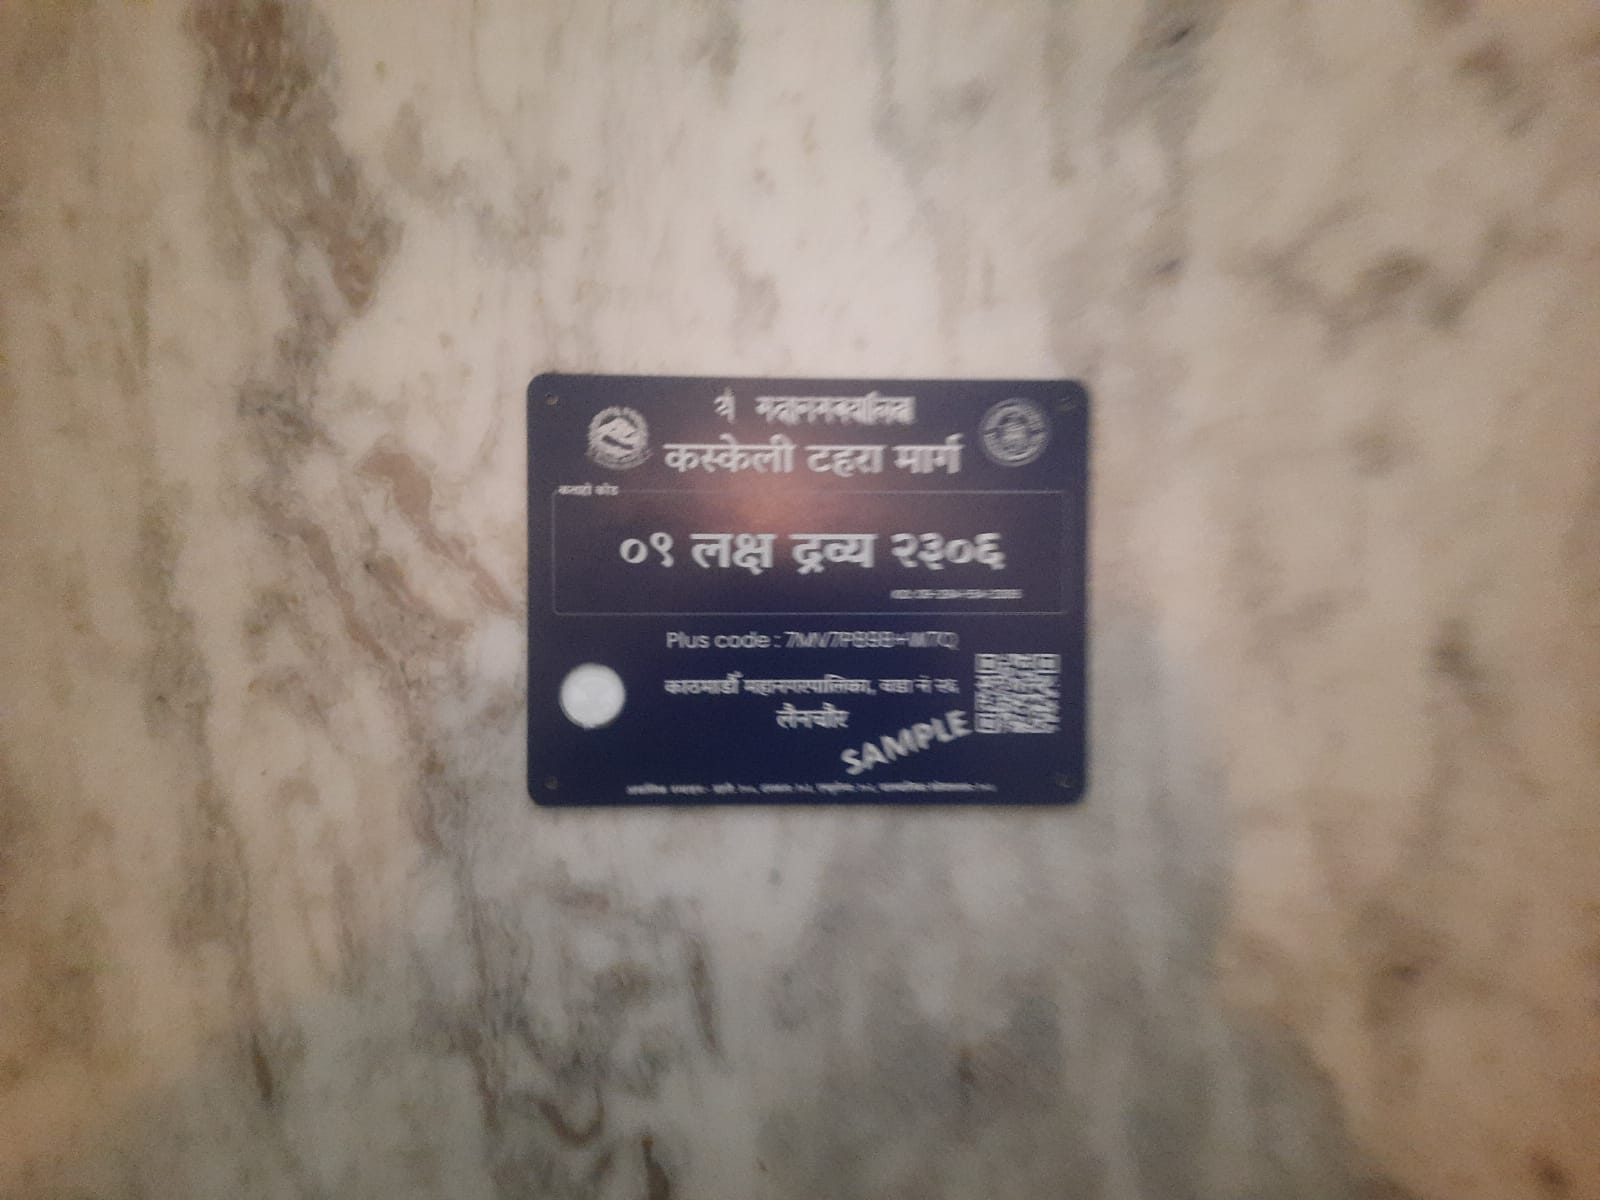Plate: (522, 369, 1093, 811)
